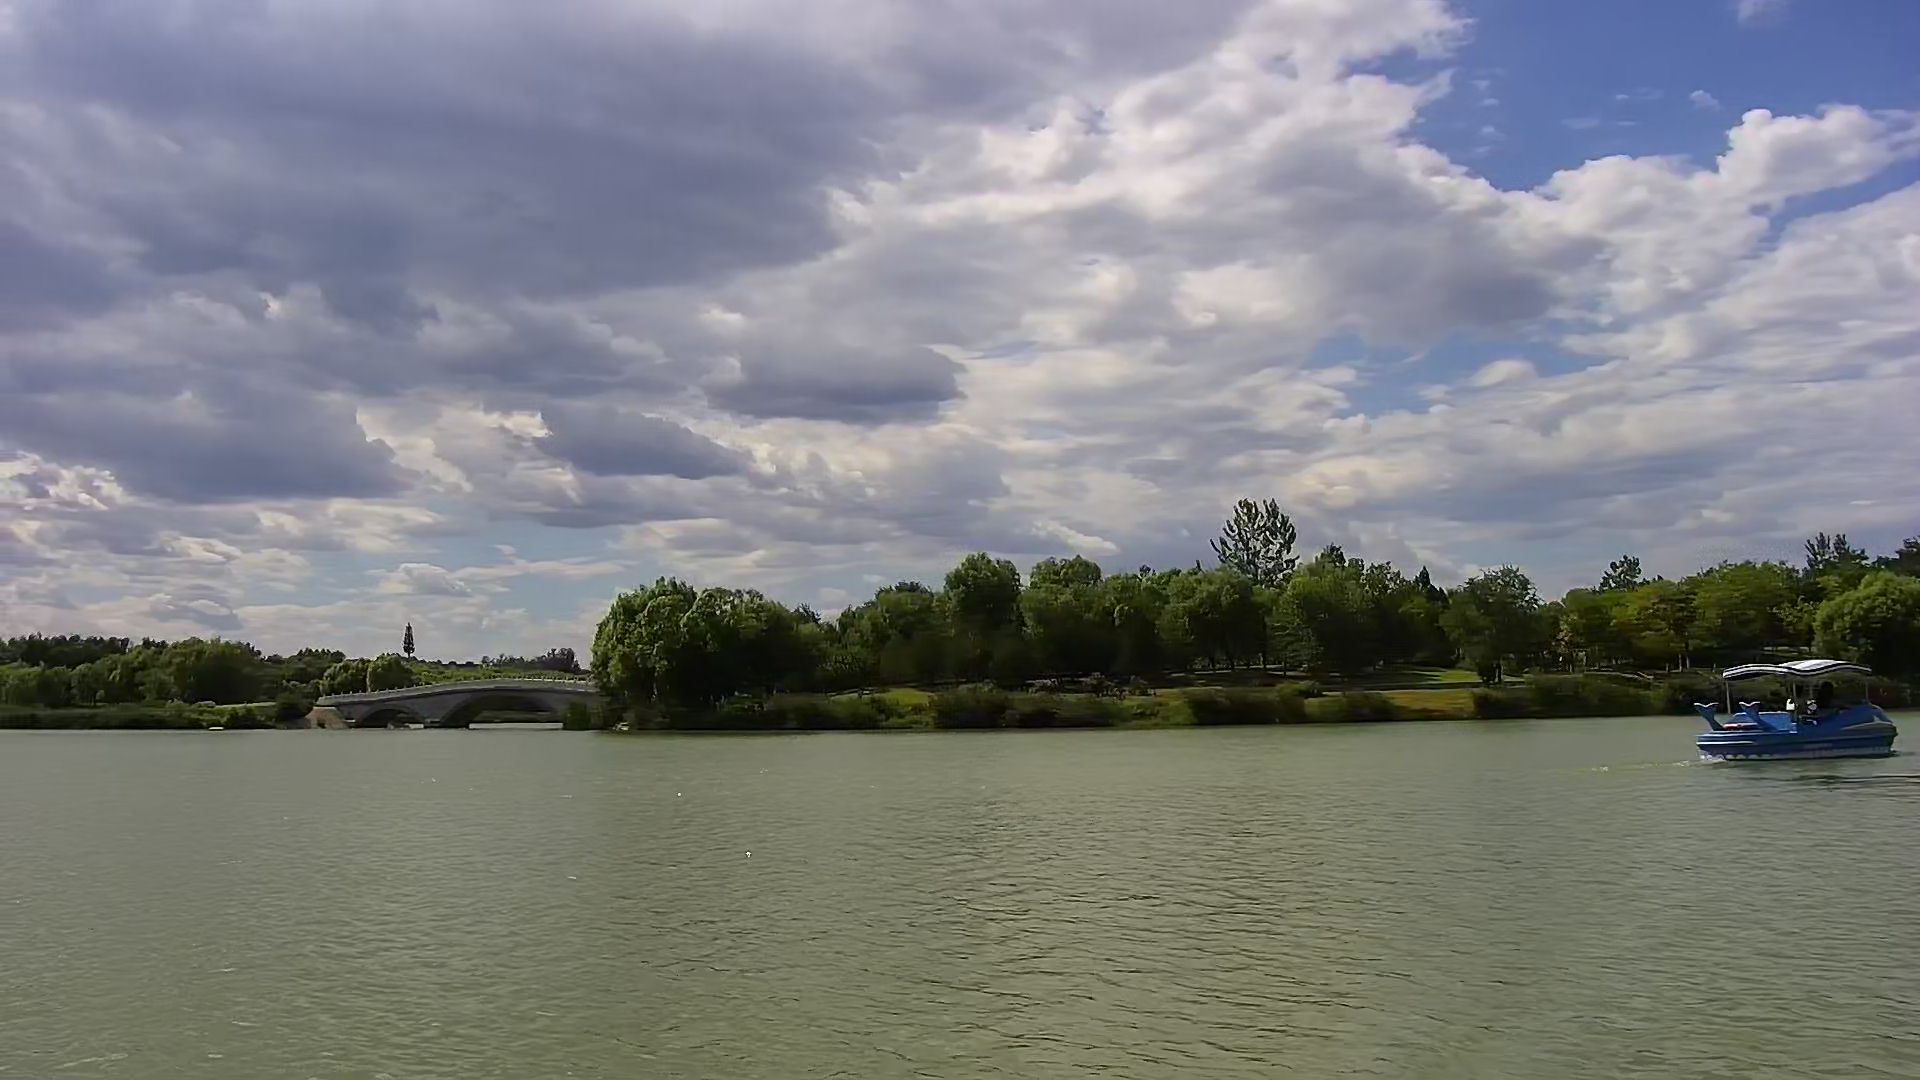boat: (1696, 655, 1907, 758)
bridge: (334, 669, 607, 735)
